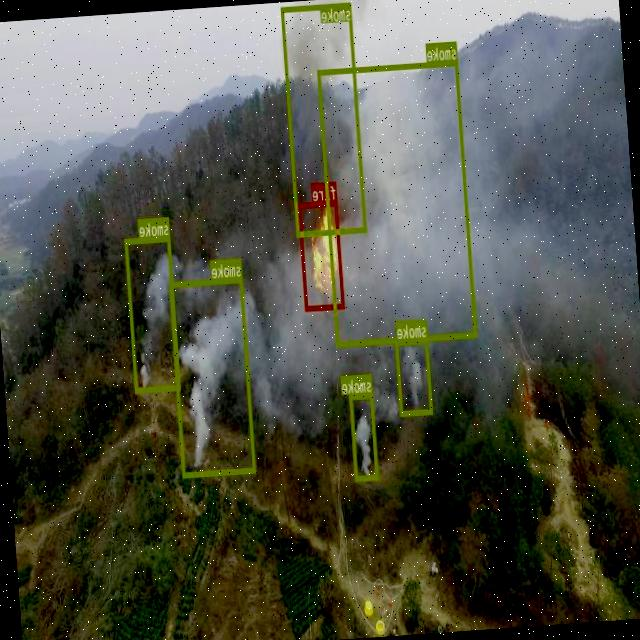fire: (298, 198, 345, 310)
smoke: (318, 60, 478, 346), (281, 1, 367, 236), (170, 276, 256, 476), (124, 235, 181, 391), (395, 336, 433, 414), (349, 391, 378, 480)
